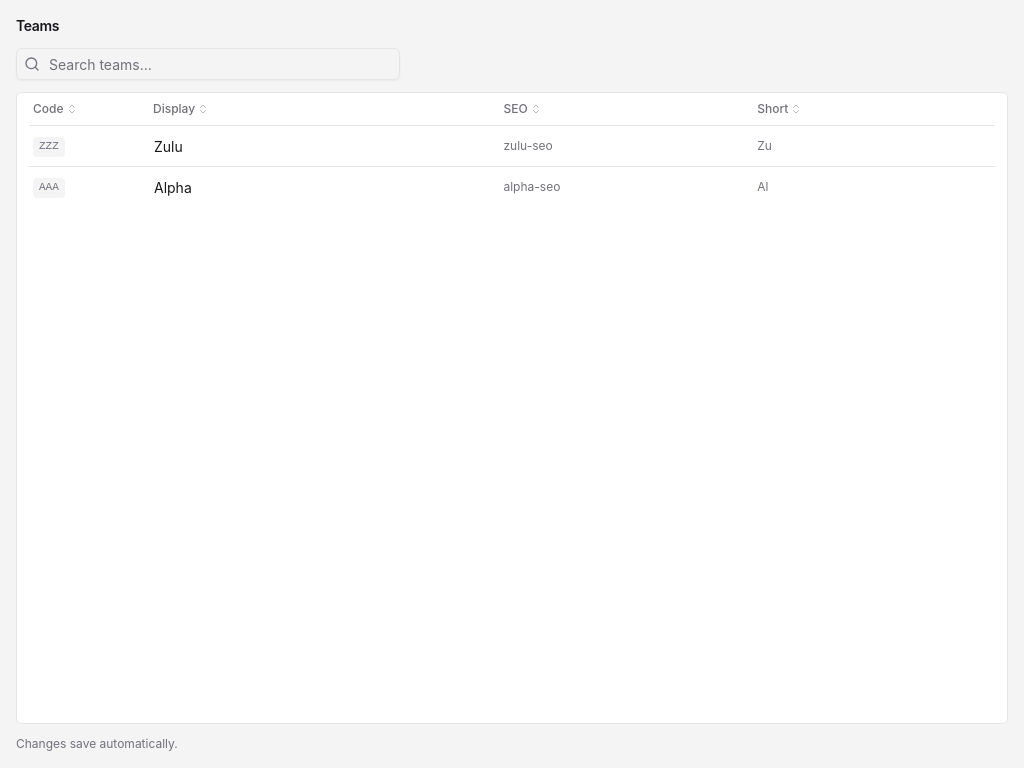
Test: NamesTab › toasts when a team name save fails and keeps the previous name
The image size is (1024, 768).
Replace the text in the field named "Display name for AAA" with "Alpha Two" at {"x": 318, "y": 187}, box 149,171 -> 488,203
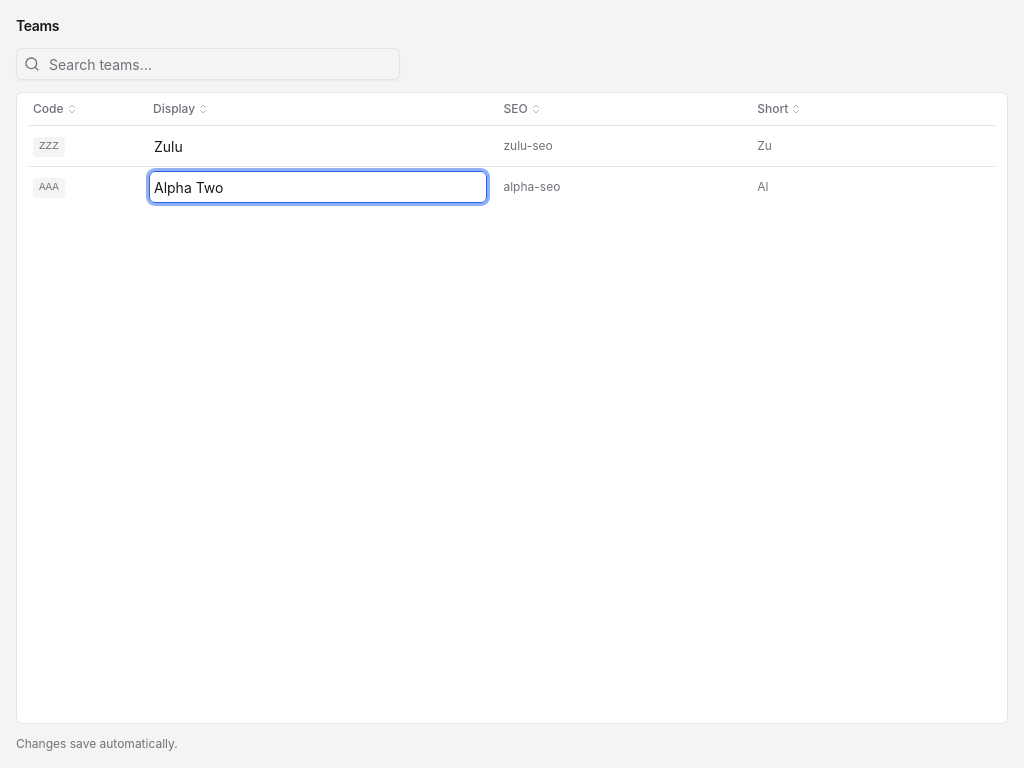
Press Tab
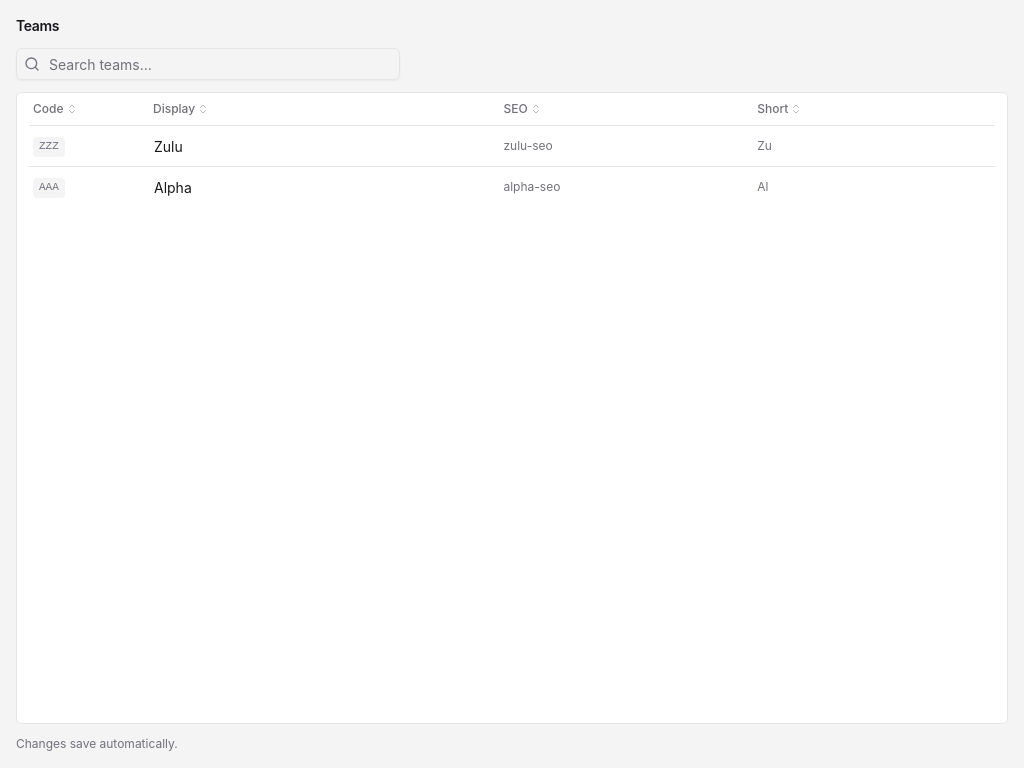
Expected: the field named "Display name for AAA" holds "Alpha", 149,171 -> 488,203
